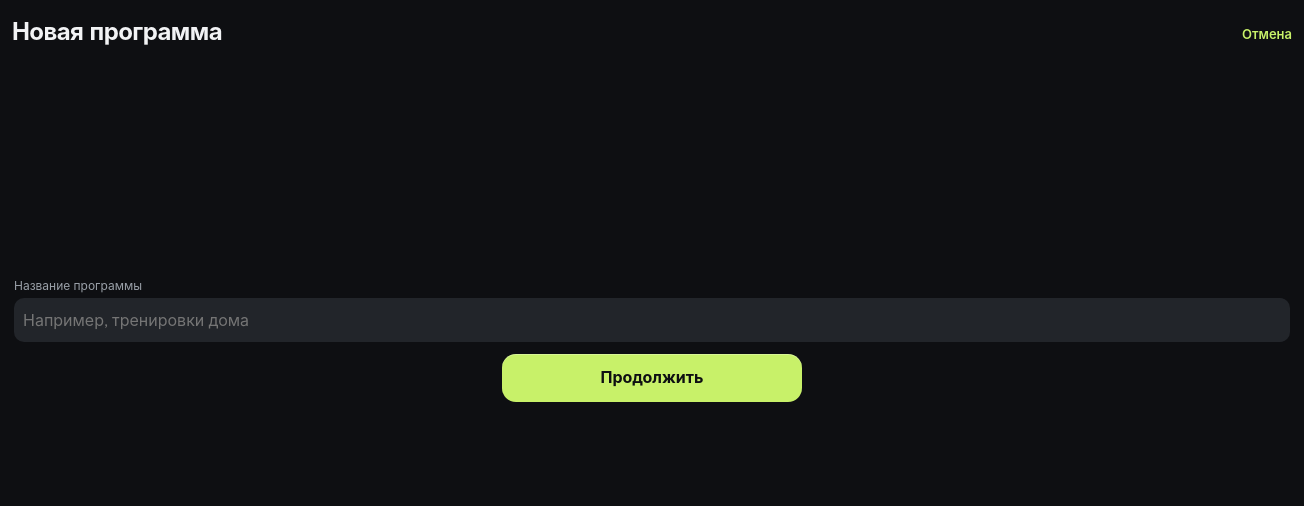
Test: shows rest in minutes without losing seconds and keeps the editor compact
Type "Дом" into the field labelled "Название программы" at (652, 320), box [14,298,1290,342]
Click the button "Продолжить" at (652, 378), box [502,354,802,402]
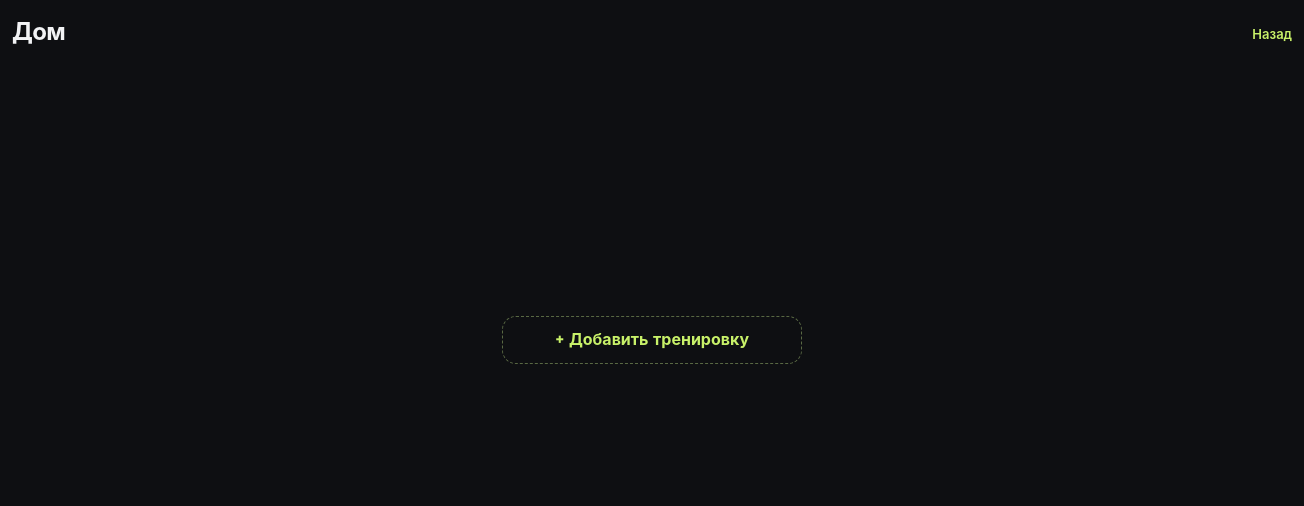
Click the button "+ Добавить тренировку" at (652, 340), box [502,316,802,364]
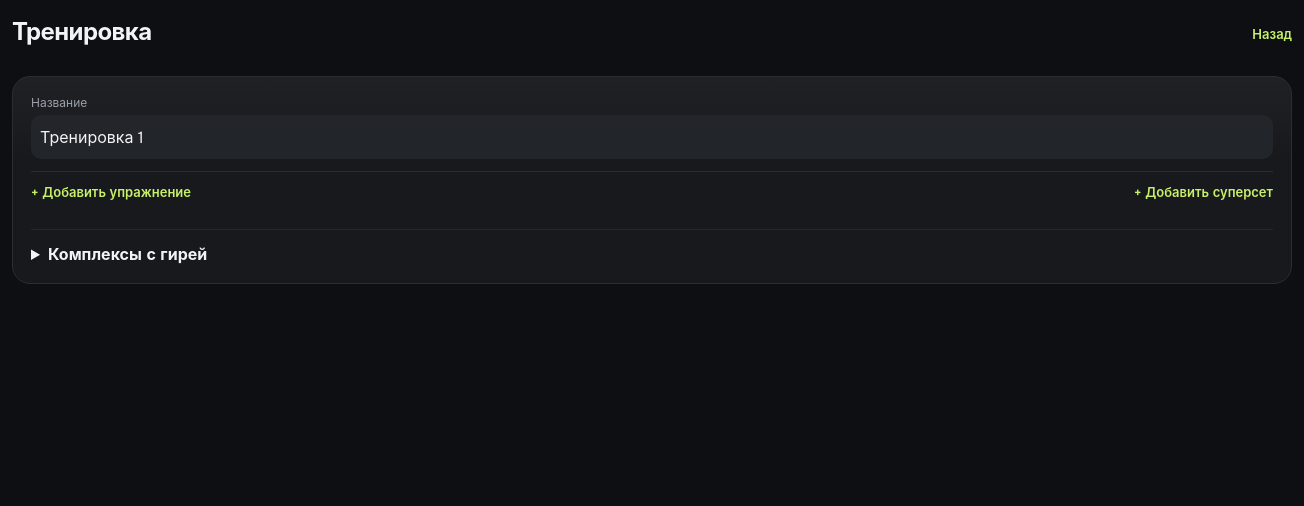
Replace the text in the field named "Название тренировки 1" with "Утро" at (652, 137), box [31,115,1273,159]
Click the button "+ Добавить упражнение" at (111, 192), box [31,184,191,201]
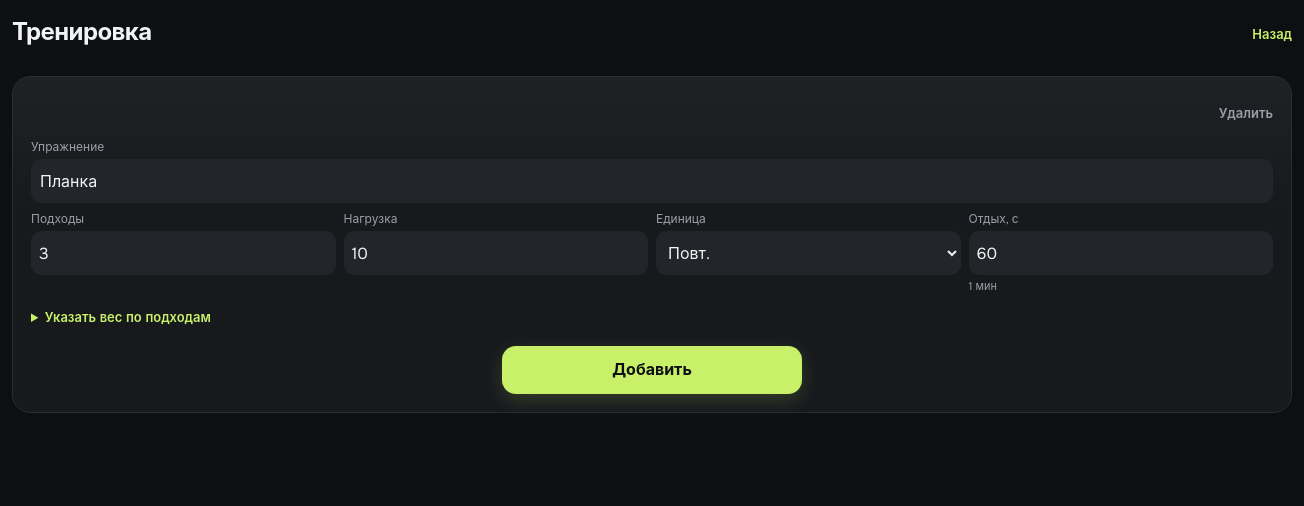
Replace the text in the number field named "Отдых 1" with "90" at (1121, 253), box [968,231,1273,275]
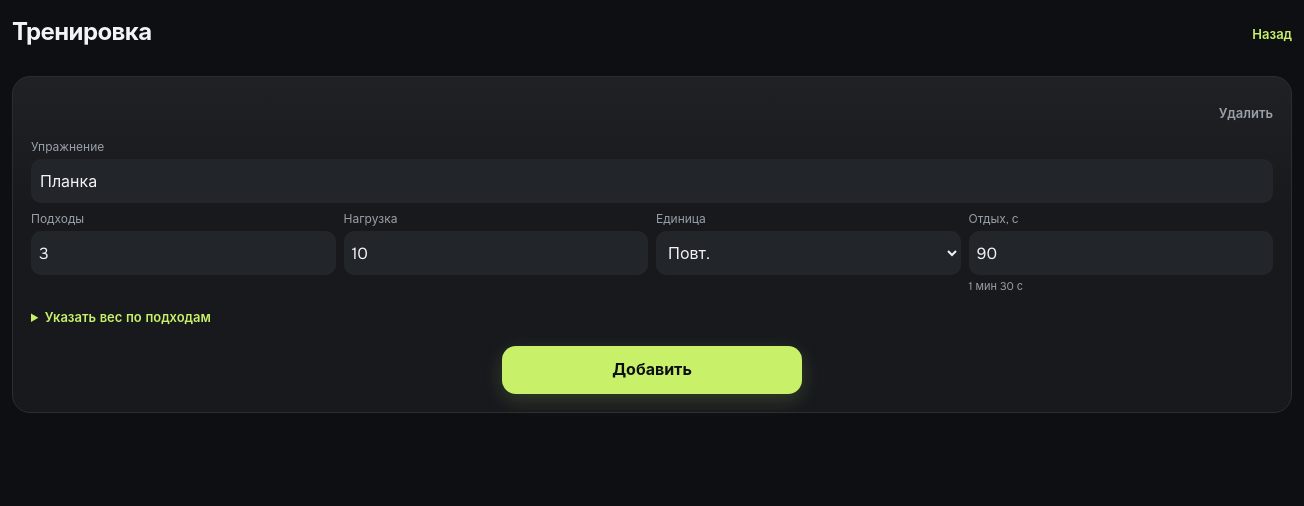
Check: the text "1 мин 30 с" is shown, box [968,279,1023,293]
Click the button "Добавить" at (652, 370), box [502,346,802,394]
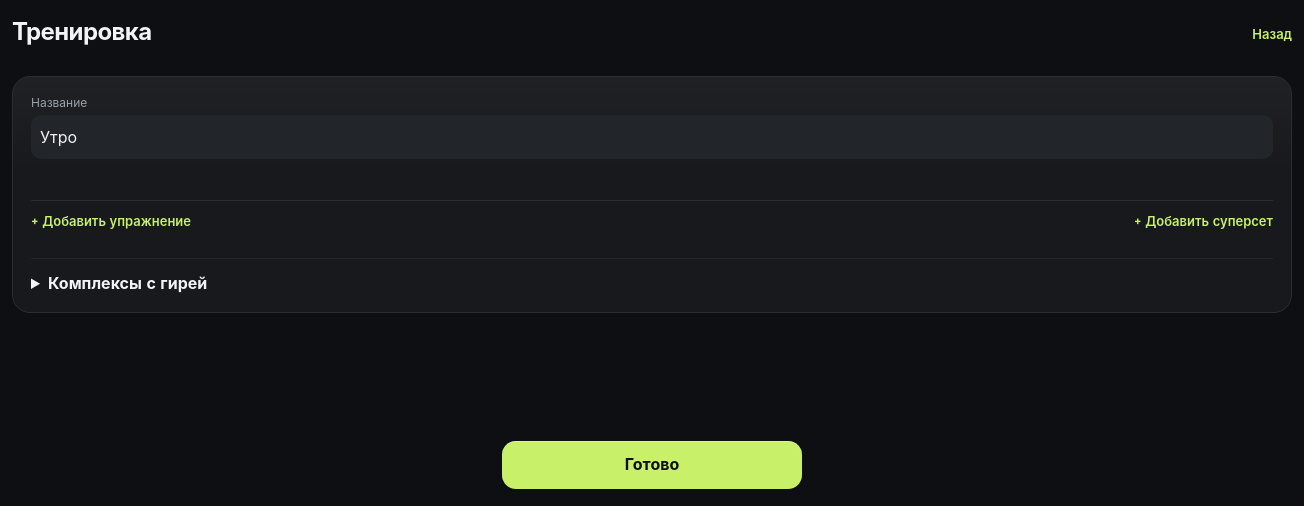
Click the button "Готово" at (652, 464), box [502,440,802,488]
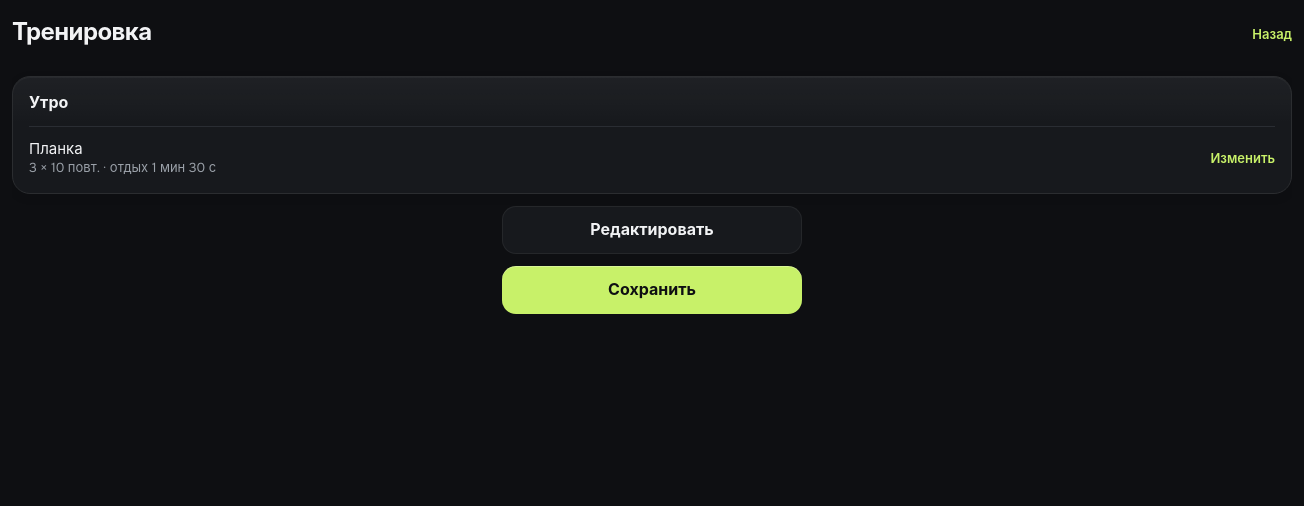
Check: the text "3 × 10 повт. · отдых 1 мин 30 с" is shown, box [29,159,216,176]
